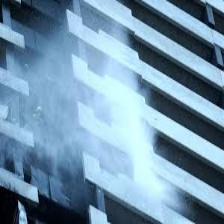smoke: (90, 73, 153, 190)
